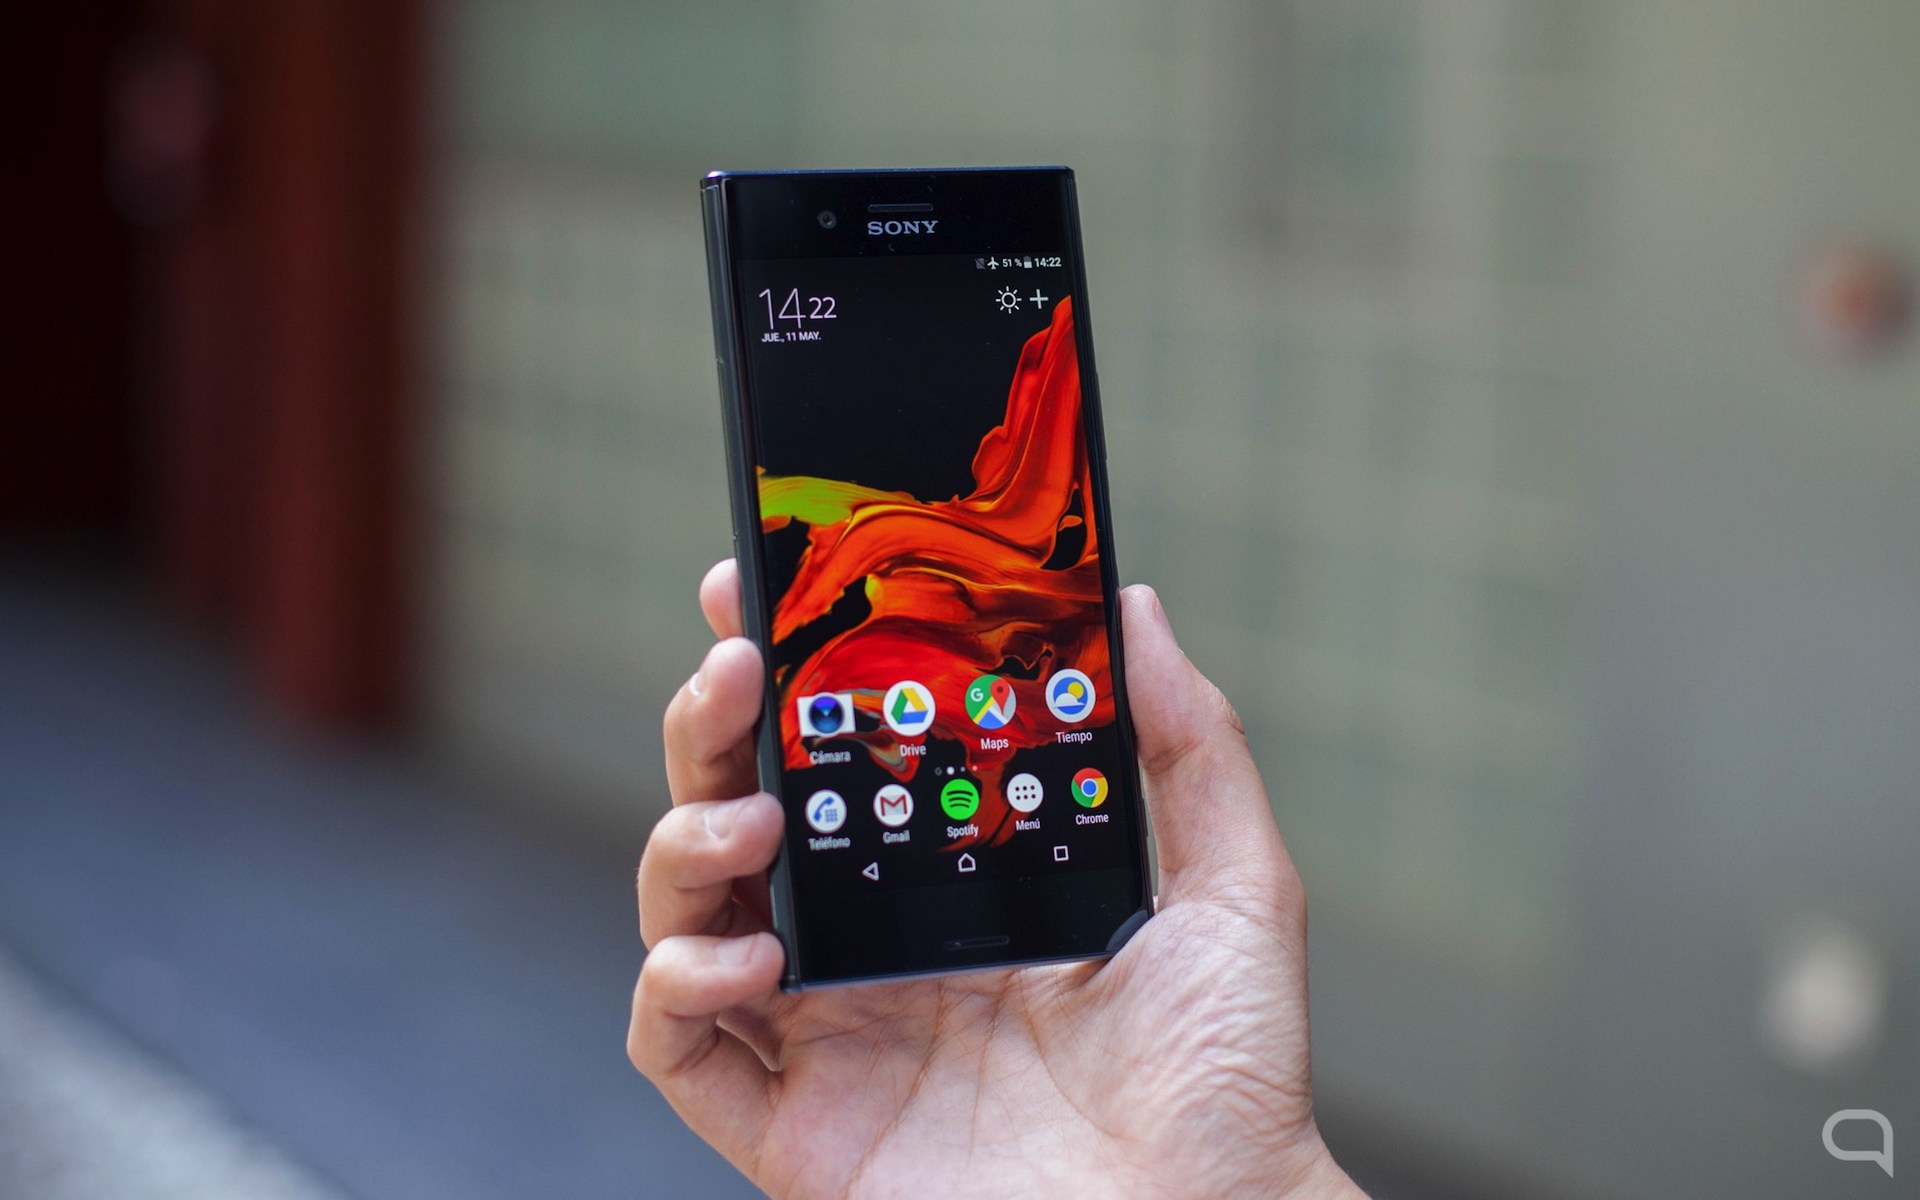smartphone: (699, 165, 1158, 1000)
